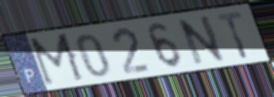0: (74, 32, 115, 79)
2: (109, 25, 153, 76)
6: (146, 20, 184, 70)
M: (27, 31, 88, 89)
N: (175, 13, 229, 67)
T: (213, 9, 251, 61)
